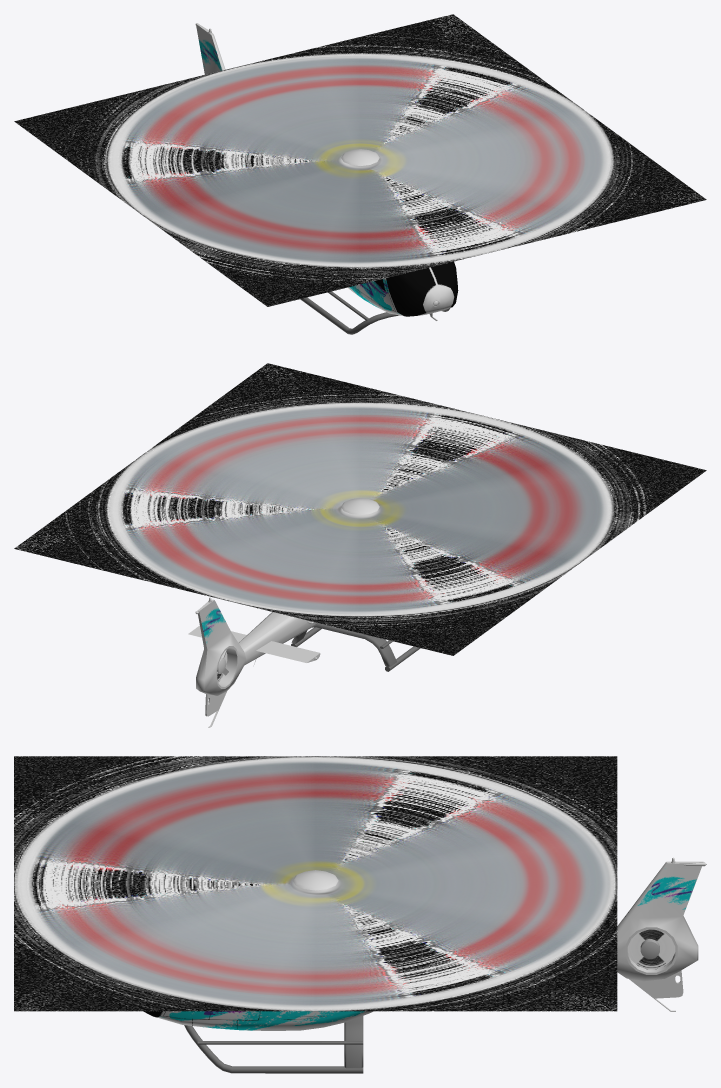
Rendered from helicopter.fbx.
The picture shows the model from 3 angles, top to bottom: view 1: azimuth 30°, elevation 25°; view 2: azimuth 150°, elevation 25°; view 3: azimuth 270°, elevation 25°; orthographic projection. The views are drawn at different scales.
Visible parts, largest first — view 1: main_rotor, body_no_callsigns, main_rotor_no_blades; view 2: main_rotor, body_no_callsigns; view 3: main_rotor, body_no_callsigns, tail_rotor, main_rotor_no_blades.
Boxes of the visible parts, bbox=[...] form: main_rotor: bbox=[14, 14, 706, 306]; body_no_callsigns: bbox=[195, 23, 458, 334]; main_rotor_no_blades: bbox=[341, 149, 379, 165]; main_rotor: bbox=[14, 363, 706, 655]; body_no_callsigns: bbox=[188, 597, 420, 727]; main_rotor: bbox=[14, 756, 617, 1011]; body_no_callsigns: bbox=[143, 857, 706, 1073]; tail_rotor: bbox=[627, 929, 675, 969]; main_rotor_no_blades: bbox=[293, 870, 338, 890].
Bounding box in the file's own units: 481 × 165 × 552.
